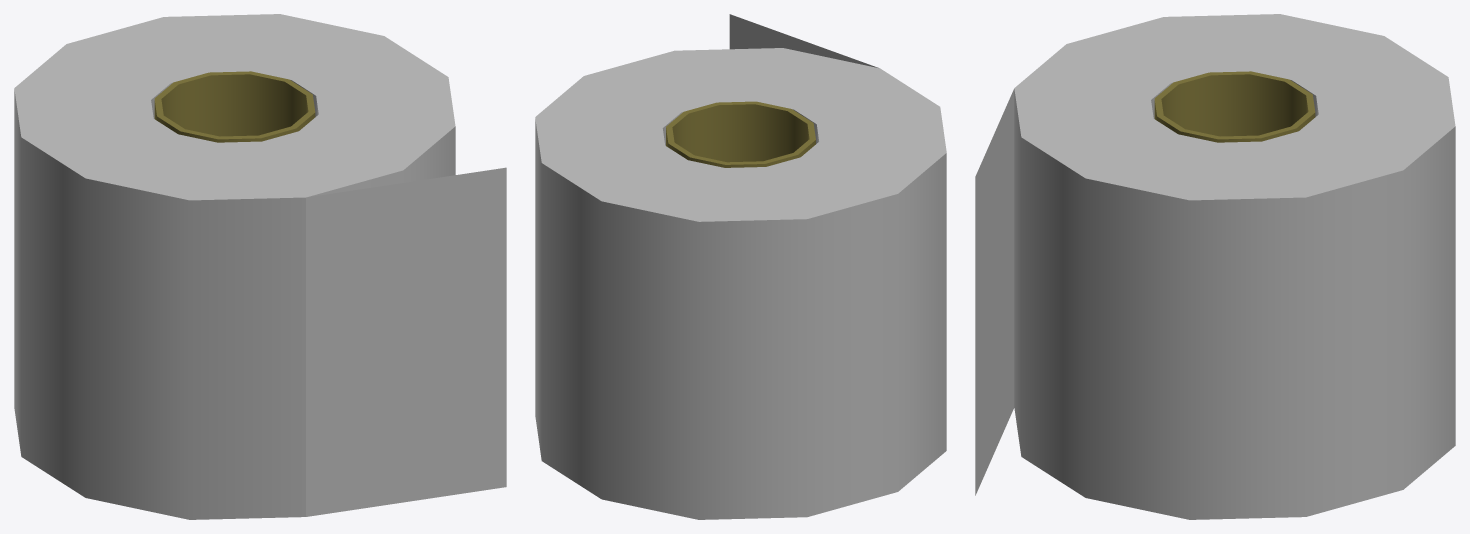
Rendered from Papel higienico.fbx.
3 renders of one model, left to right at view 1: azimuth 30°, elevation 25°; view 2: azimuth 150°, elevation 25°; view 3: azimuth 270°, elevation 25°, orthographic. The views are drawn at different scales.
Visible parts, largest first — view 1: Papel Higienico; view 2: Papel Higienico; view 3: Papel Higienico.
Part boxes in pixels (x1,y1,x2,y2): Papel Higienico: [14, 14, 506, 519]; Papel Higienico: [535, 14, 946, 519]; Papel Higienico: [975, 14, 1455, 519].
Size of the model in its own units: 13.08 by 10.51 by 14.23.
